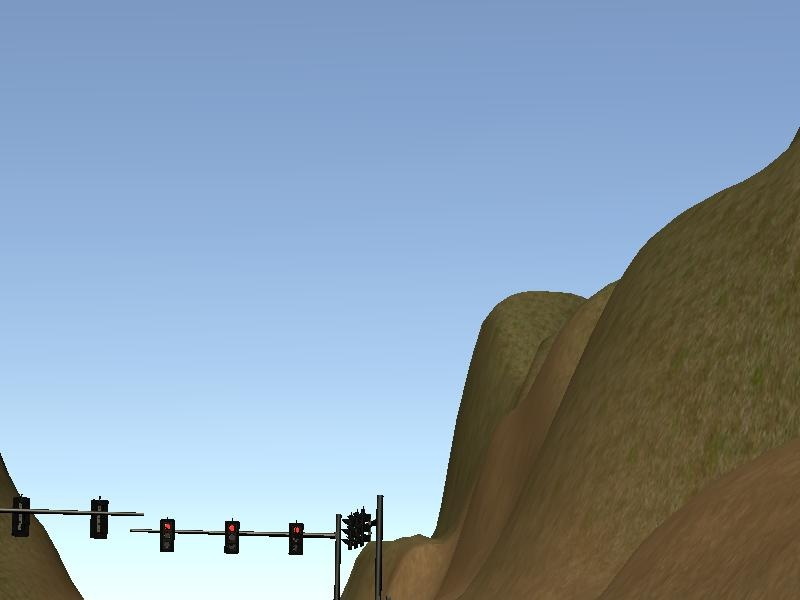traffic_light_red: (150, 517, 333, 557)
